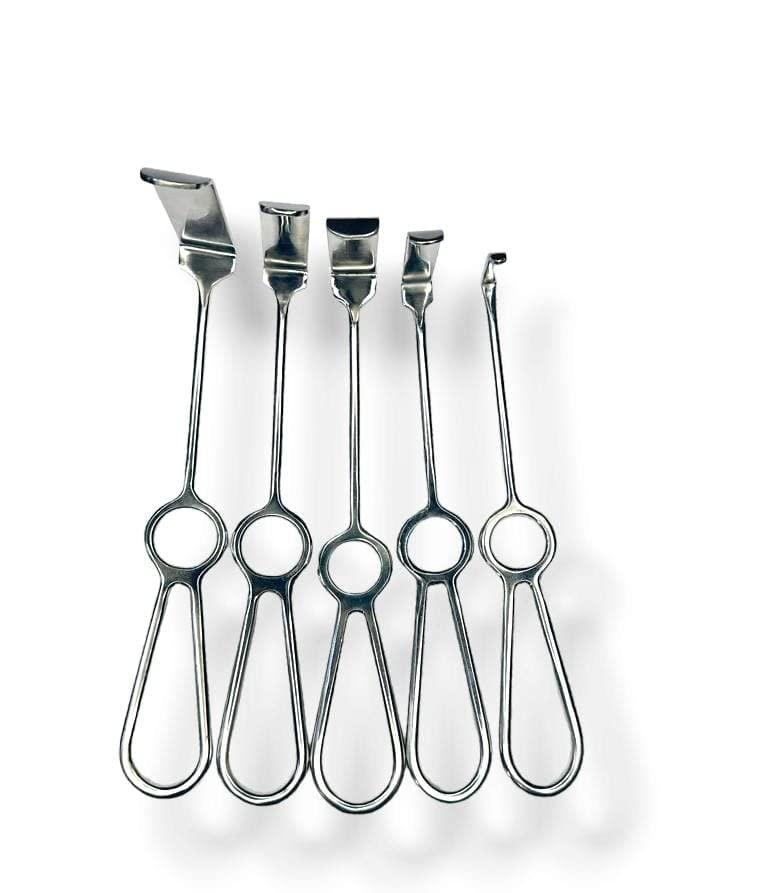Langenbach Retractor: (104, 149, 236, 799), (217, 193, 323, 806), (477, 247, 577, 806), (313, 211, 401, 816), (404, 221, 489, 811)
